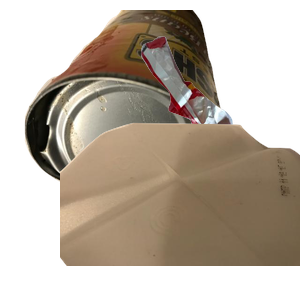glass: (77, 147, 295, 300)
metal: (22, 10, 251, 190)
plastic: (60, 120, 300, 300)
trash: (139, 34, 300, 167)
